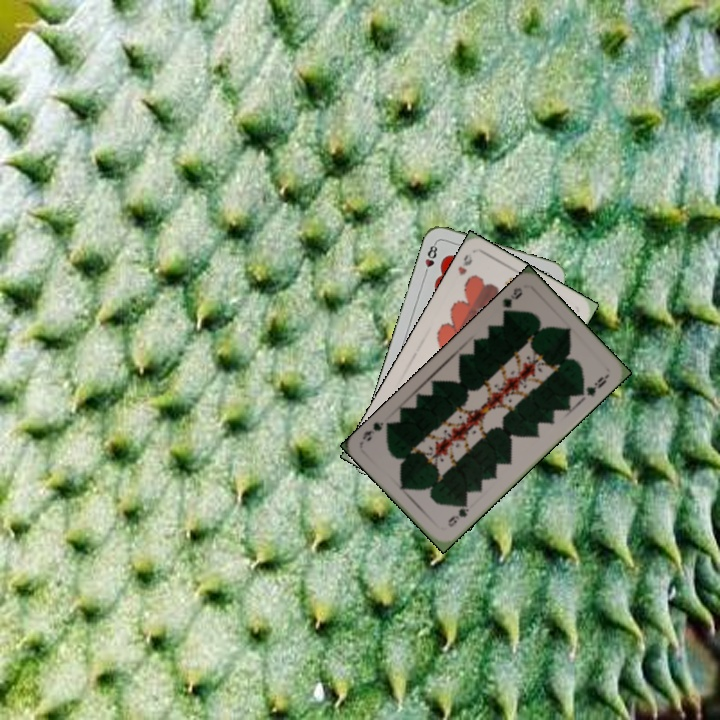G9: (498, 283, 525, 319), (444, 498, 472, 530)
H8: (420, 239, 440, 279)
H9: (454, 250, 475, 278)
